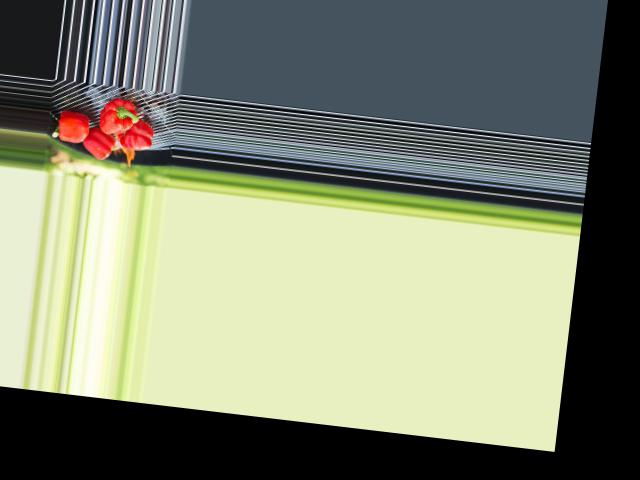bell_pepper: (116, 119, 156, 153)
